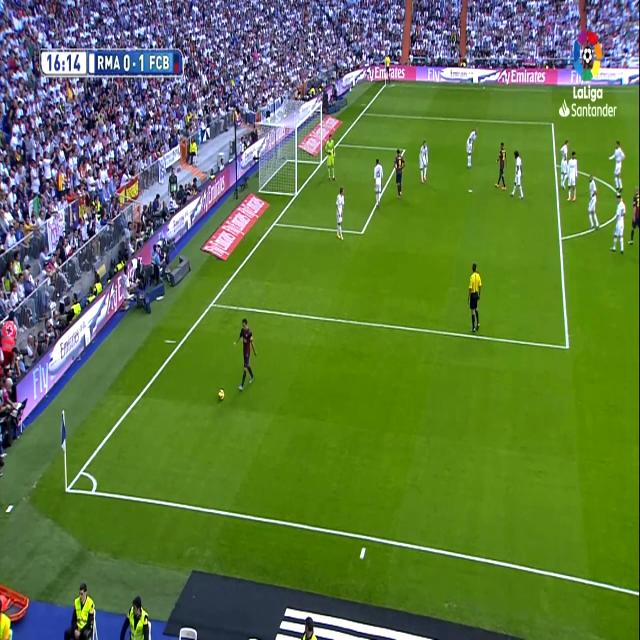bigarea_bottom_inner: (561, 330, 573, 359)
bigarea_top_outter: (359, 106, 365, 117)
bottom_arc_area_intersection: (207, 295, 215, 313)
corner: (384, 80, 390, 88)
smallarea_bottom_outter: (271, 213, 278, 230)
smallarea_top_outter: (335, 136, 341, 150)
